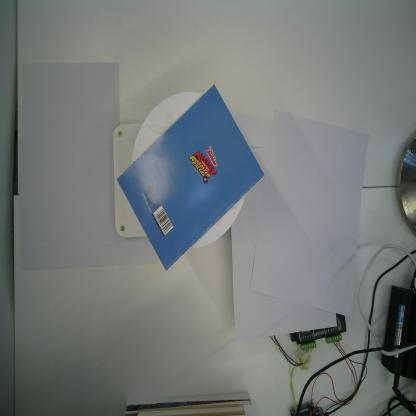Stationery: (115, 83, 266, 272)
